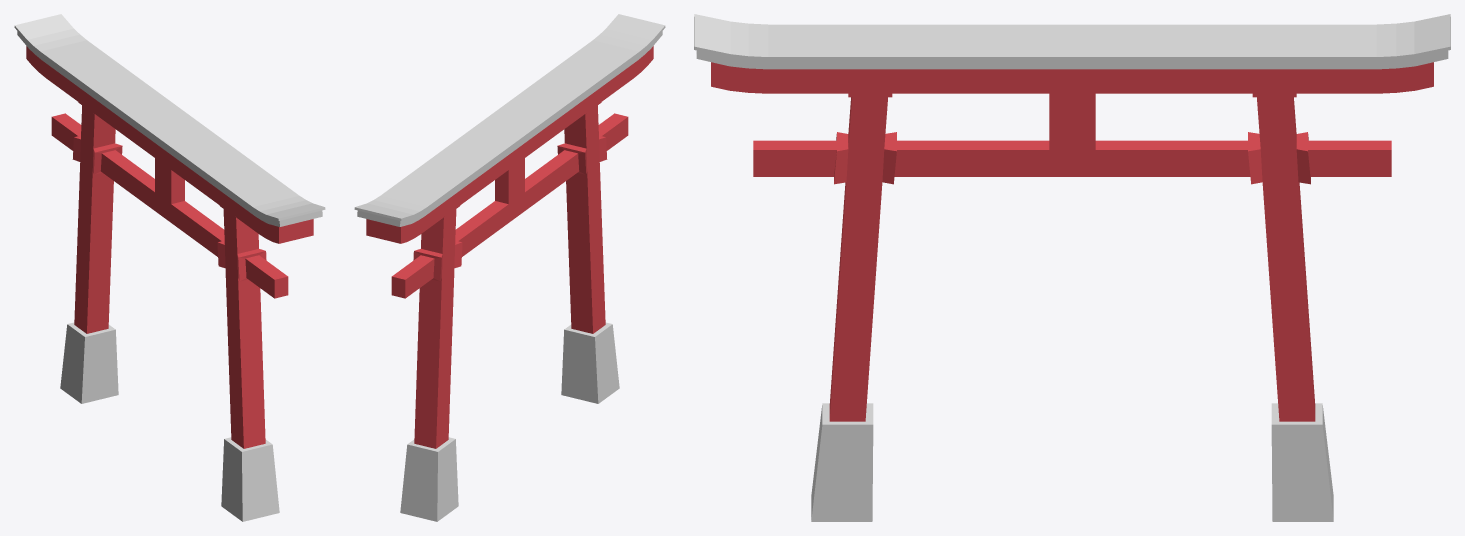
File: gate.fbx
3 views of the same model, side by side, from view 1: azimuth 30°, elevation 25°; view 2: azimuth 150°, elevation 25°; view 3: azimuth 270°, elevation 25° (orthographic). The views are drawn at different scales.
Visible parts, largest first — view 1: Gate; view 2: Gate; view 3: Gate.
Boxes of the visible parts, x1,y1,x2,y2 form: Gate: (14,14,325,521); Gate: (354,14,665,521); Gate: (694,14,1450,521).
Size of the model in its own units: 48.44 by 331 by 474.
